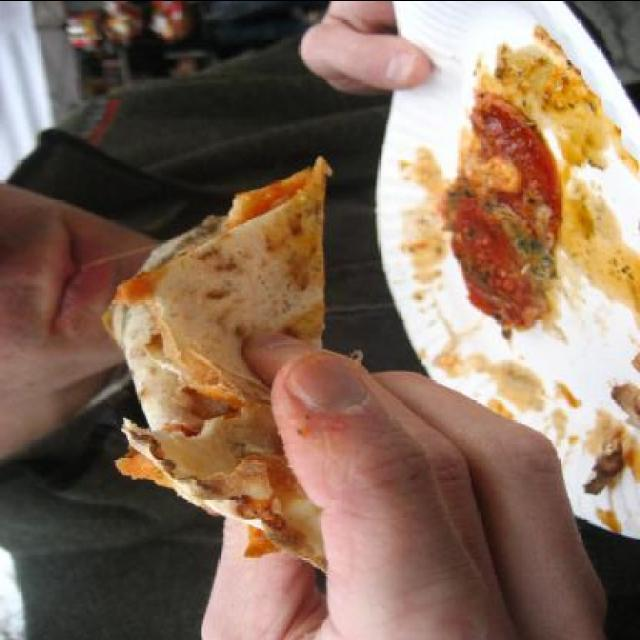Pizza: (102, 154, 333, 576)
